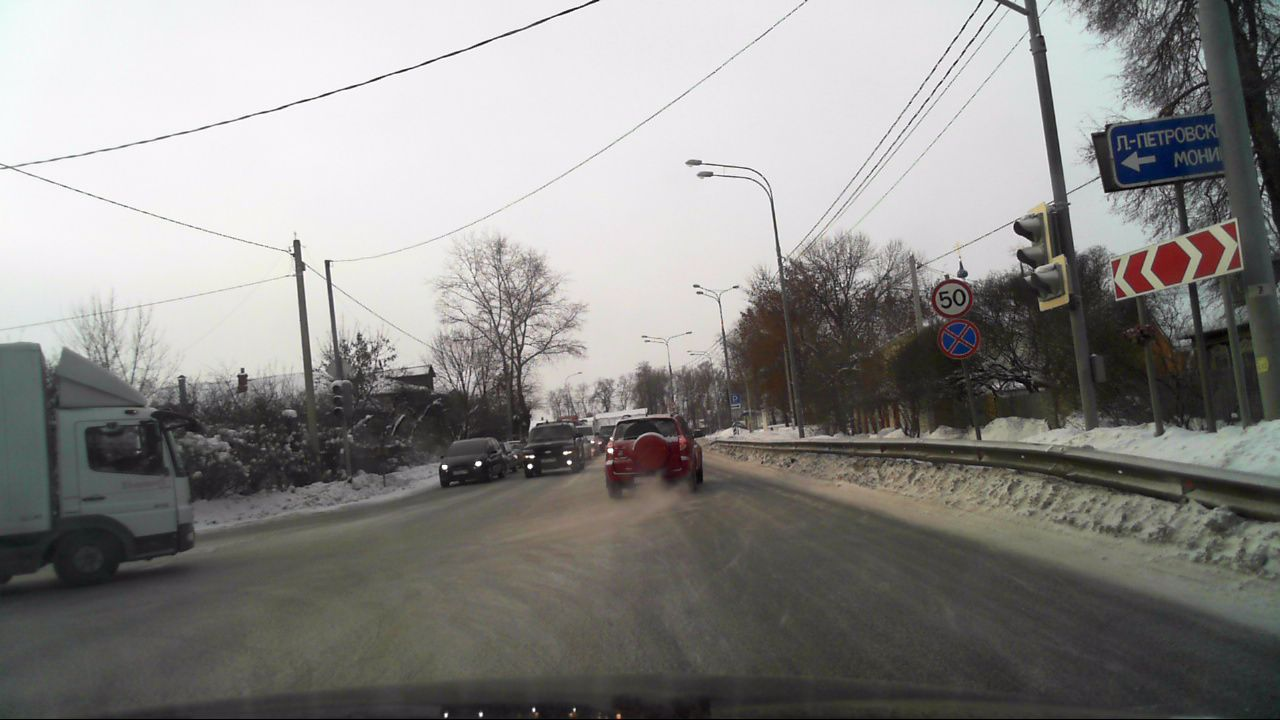No Parking: (938, 320, 976, 357)
